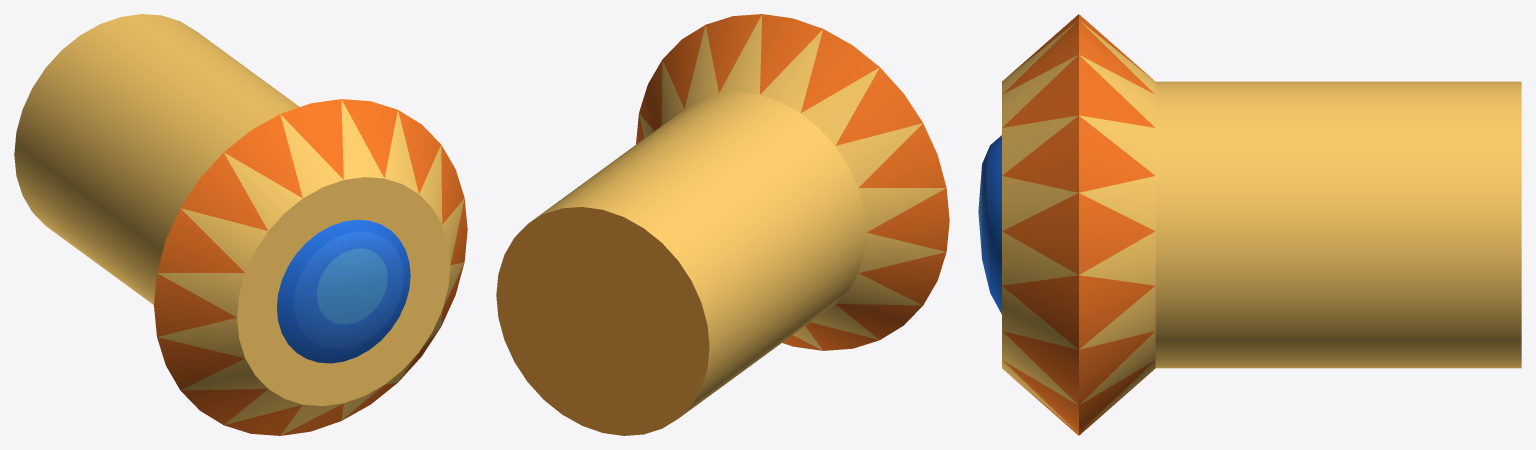
Rendered from D_FBX_04_Bumper.fbx.
The picture shows the model from 3 angles, left to right: view 1: azimuth 30°, elevation 25°; view 2: azimuth 150°, elevation 25°; view 3: azimuth 270°, elevation 25°; orthographic projection. The views are drawn at different scales.
Parts seen in each view (by area): view 1: D_FBX_04_Bumper; view 2: D_FBX_04_Bumper; view 3: D_FBX_04_Bumper.
Part boxes in pixels (x1,y1,x2,y2): D_FBX_04_Bumper: (14,14,467,435); D_FBX_04_Bumper: (496,14,949,435); D_FBX_04_Bumper: (978,14,1521,435).
Bounding box in the file's own units: 158 × 158 × 203.
